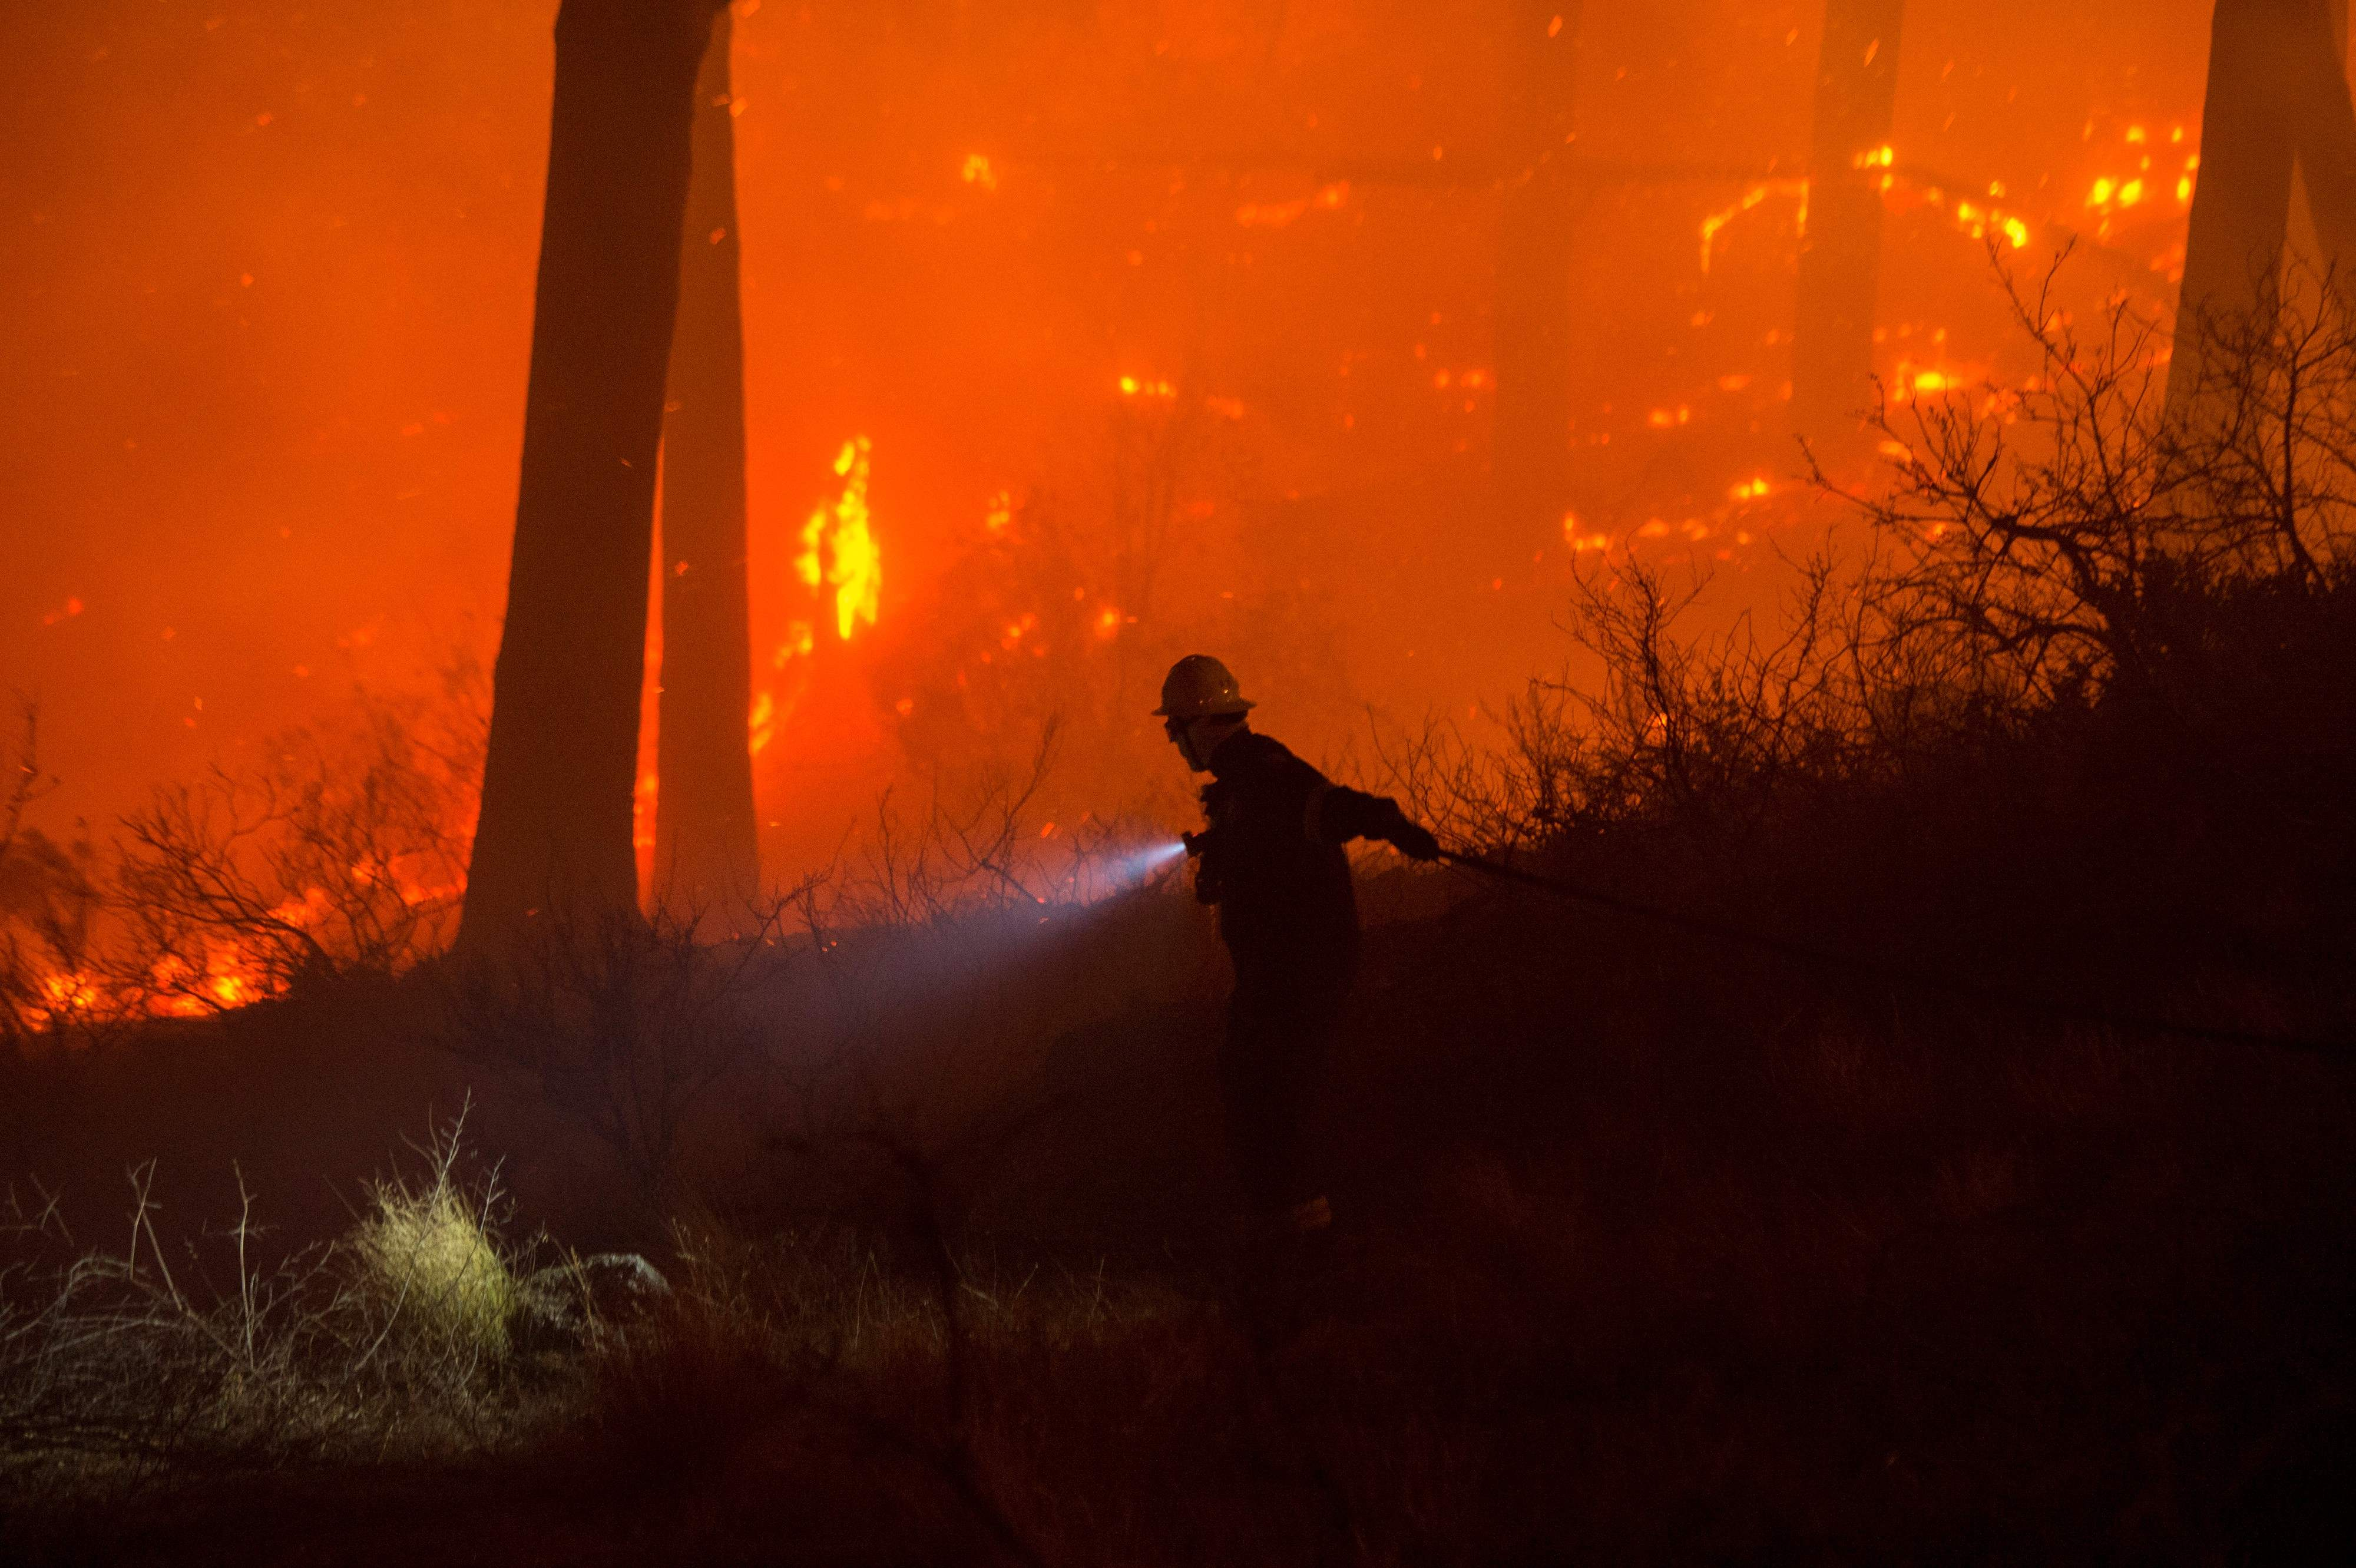fire: (810, 429, 883, 639)
